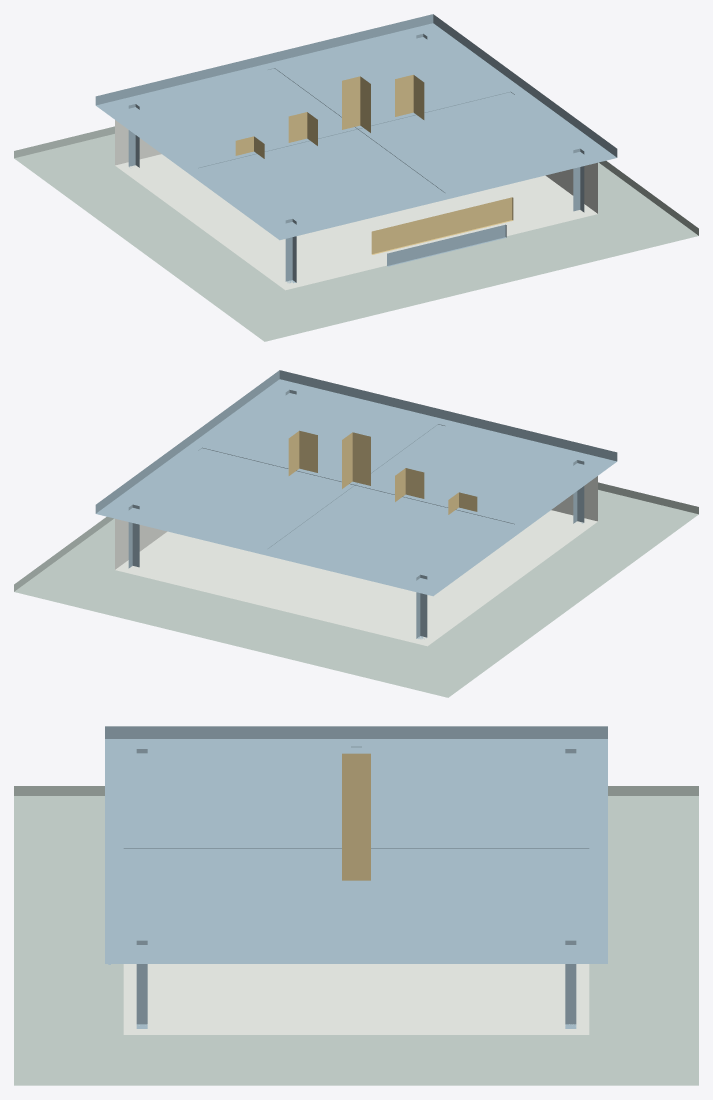
Rendered from clothing_store.glb.
3 renders of one model, top to bottom at view 1: azimuth 30°, elevation 25°; view 2: azimuth 150°, elevation 25°; view 3: azimuth 270°, elevation 25°, orthographic. The views are drawn at different scales.
Parts seen in each view (by area): view 1: Roof, Foundation, Walls, Details, Frame; view 2: Roof, Foundation, Walls, Details, Frame; view 3: Roof, Foundation, Walls, Details, Frame.
Boxes of the visible parts, x1,y1,x2,y2 form: Roof: (95,14,617,240); Foundation: (14,126,698,341); Walls: (115,120,597,290); Details: (235,74,513,266); Frame: (128,33,584,283); Roof: (95,370,617,596); Foundation: (14,482,698,697); Walls: (115,476,597,646); Details: (288,430,477,514); Frame: (128,389,584,639); Roof: (105,726,607,963); Foundation: (14,786,698,1085); Walls: (123,964,589,1034); Details: (108,753,370,964); Frame: (123,746,589,1028).
Bounding box in the file's own units: 40 × 10.1 × 40.
